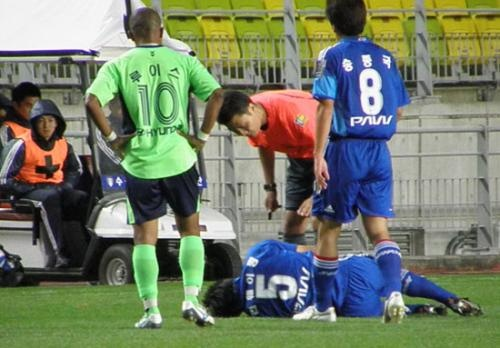falling: (191, 235, 485, 321)
